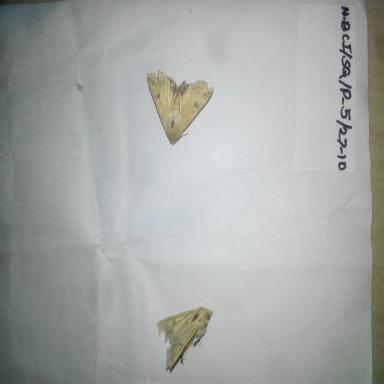abw: (144, 68, 216, 148), (155, 303, 223, 379)
